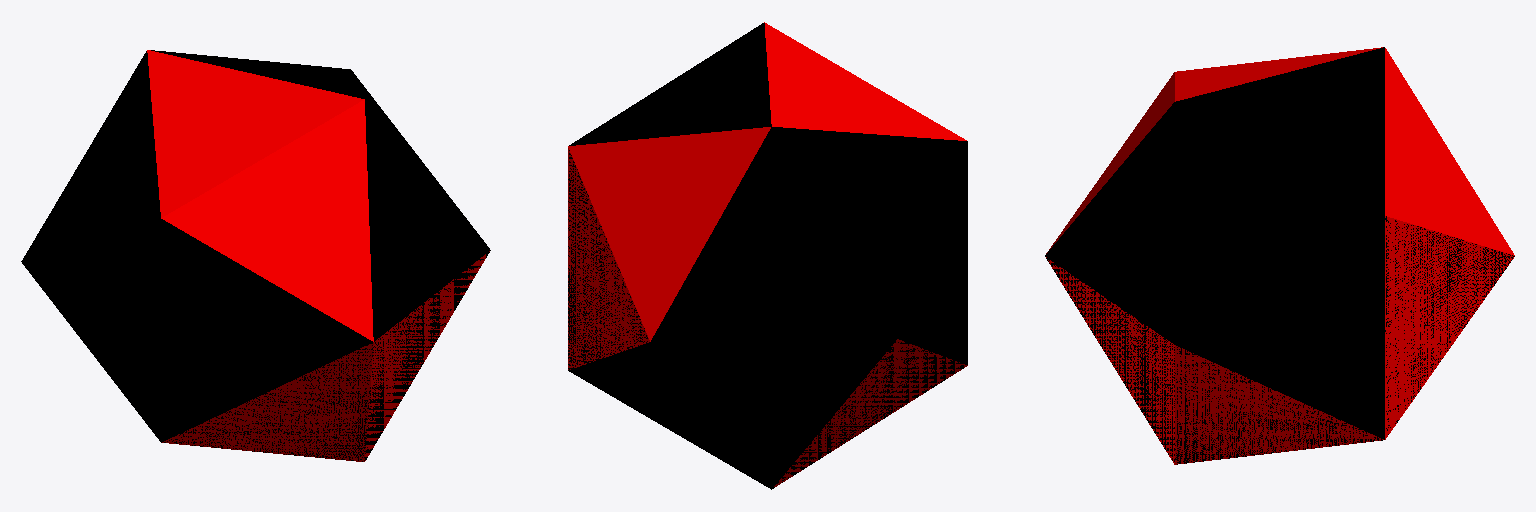
Rendered from target.obj.
3 views of the same model, side by side, from view 1: azimuth 30°, elevation 25°; view 2: azimuth 150°, elevation 25°; view 3: azimuth 270°, elevation 25° (orthographic).
Visible parts, largest first — view 1: silhouette, core; view 2: silhouette, core; view 3: silhouette, core.
Part boxes in pixels (x1,y1,x2,y2): silhouette: (21,50,490,461); core: (147,50,489,461); silhouette: (568,23,967,489); core: (568,22,967,486); silhouette: (1045,47,1514,464); core: (1046,47,1514,464).
Bounding box in the file's own units: 2.15 × 2.04 × 2.4.